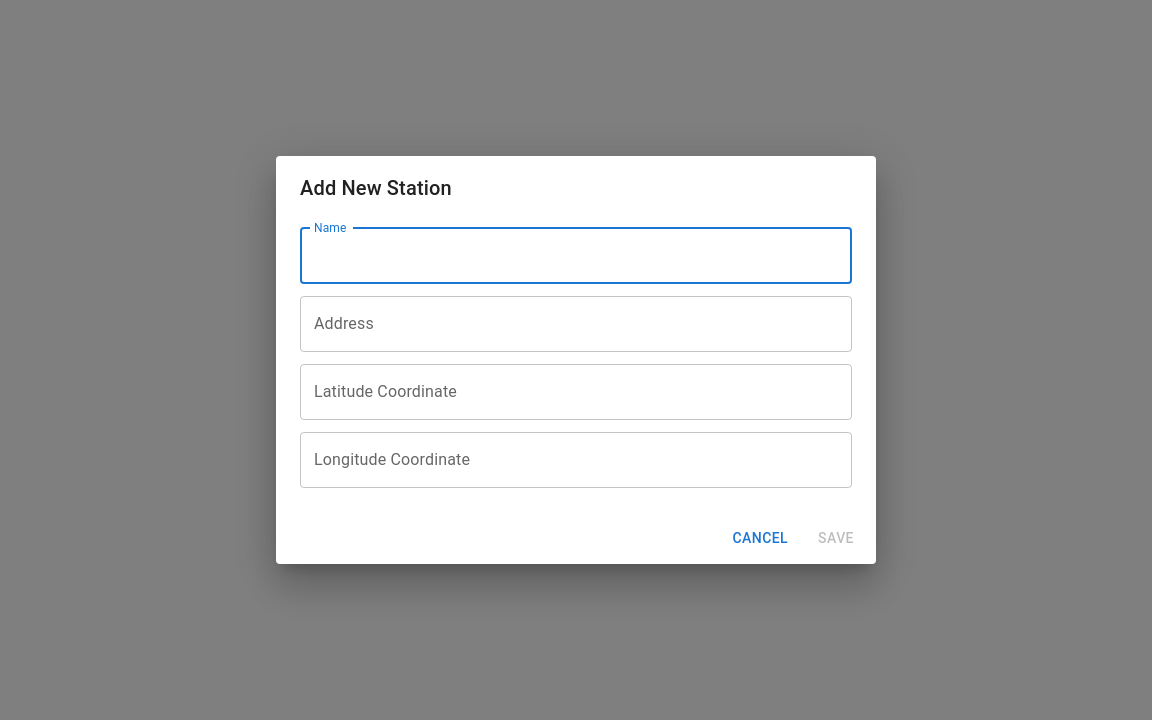
AddStationDialog Component › enables the Save button when all fields are filled out
The image size is (1152, 720).
In the field labelled "Name": [576, 256] box left=300, top=228, right=852, bottom=284, type "Station 1"
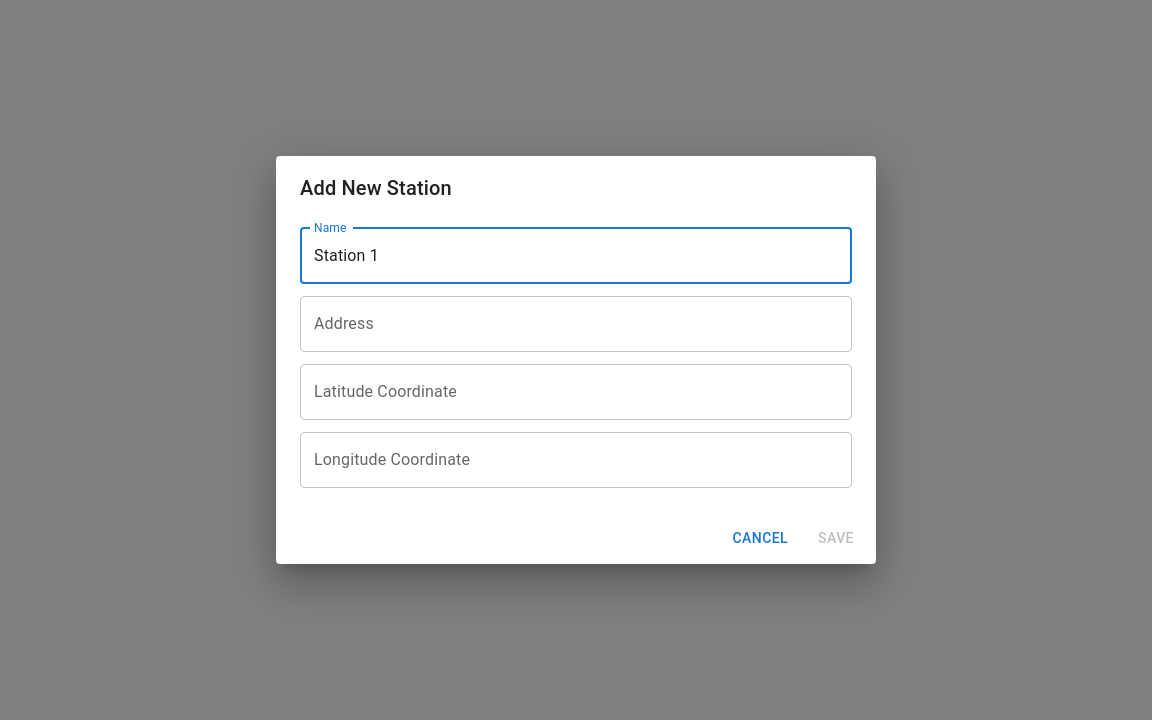
In the field labelled "Address": [576, 324] box left=300, top=296, right=852, bottom=352, type "123 Main St"
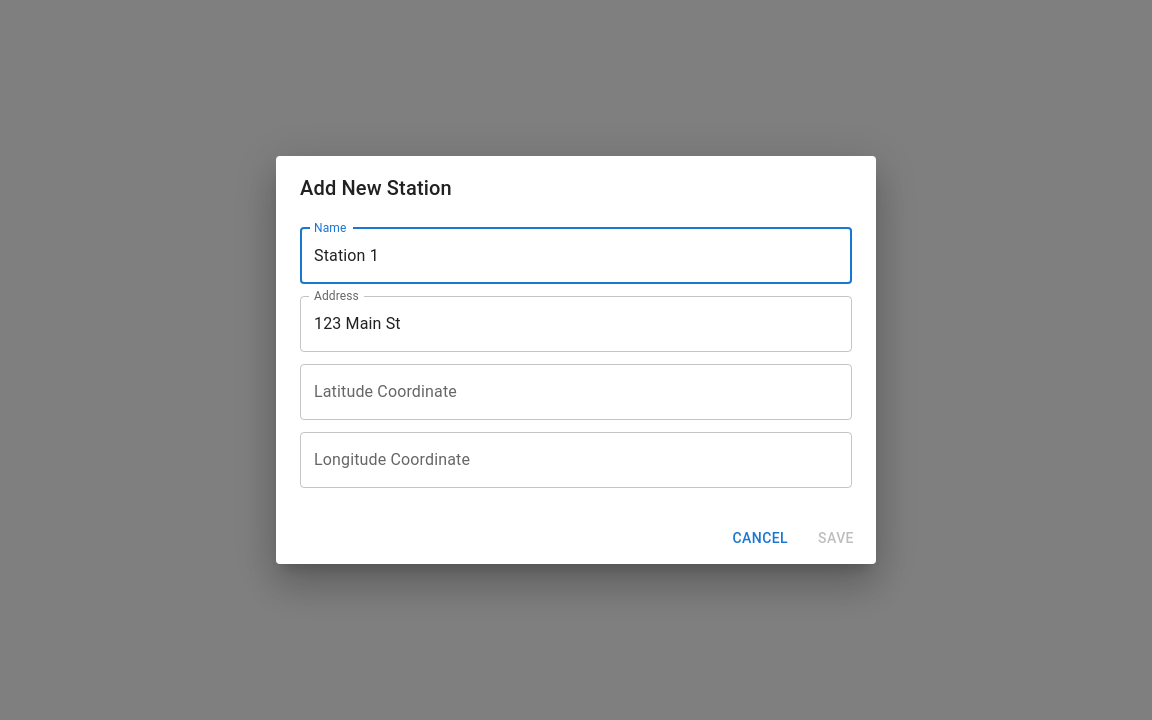
In the field labelled "Latitude Coordinate": [576, 392] box left=300, top=364, right=852, bottom=420, type "24.835356"
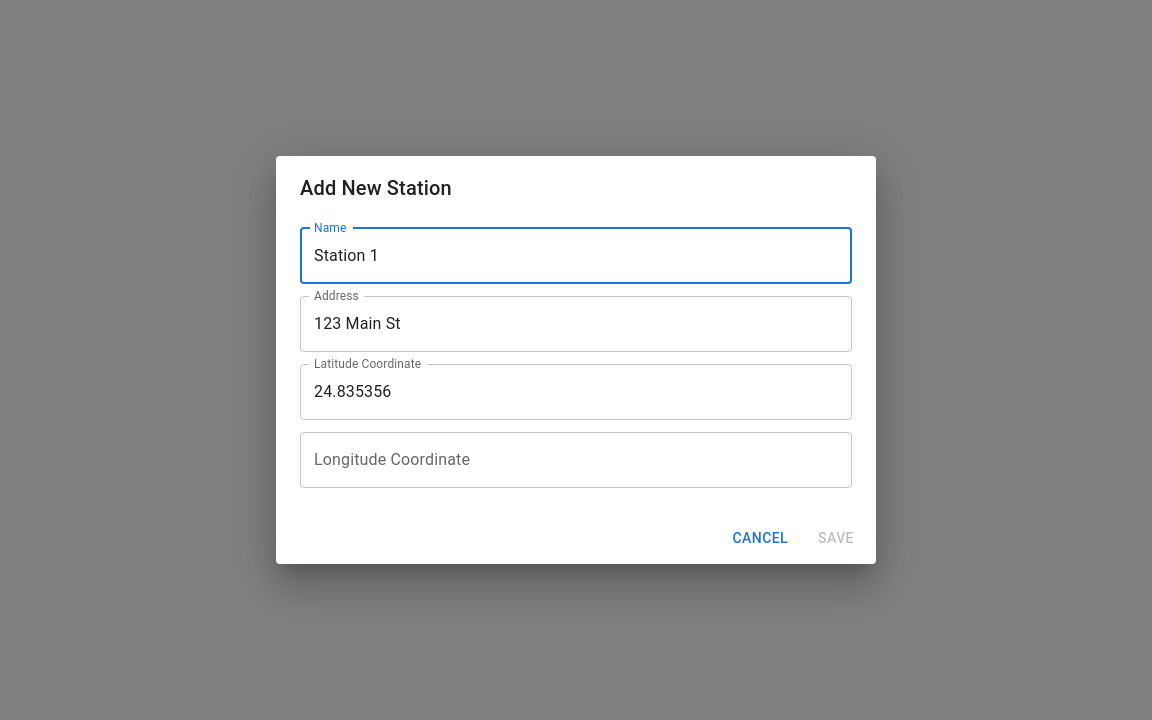
In the field labelled "Longitude Coordinate": [576, 460] box left=300, top=432, right=852, bottom=488, type "60.209017"
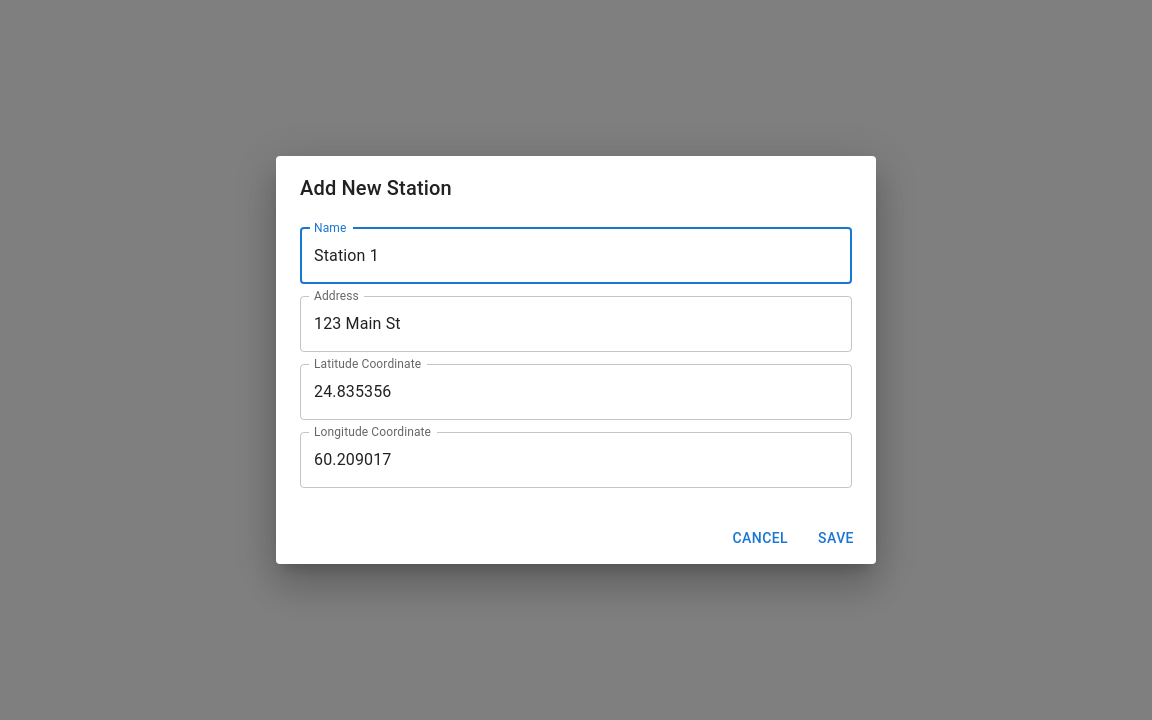
Expected: the button "Save" is enabled, left=804, top=520, right=868, bottom=556
